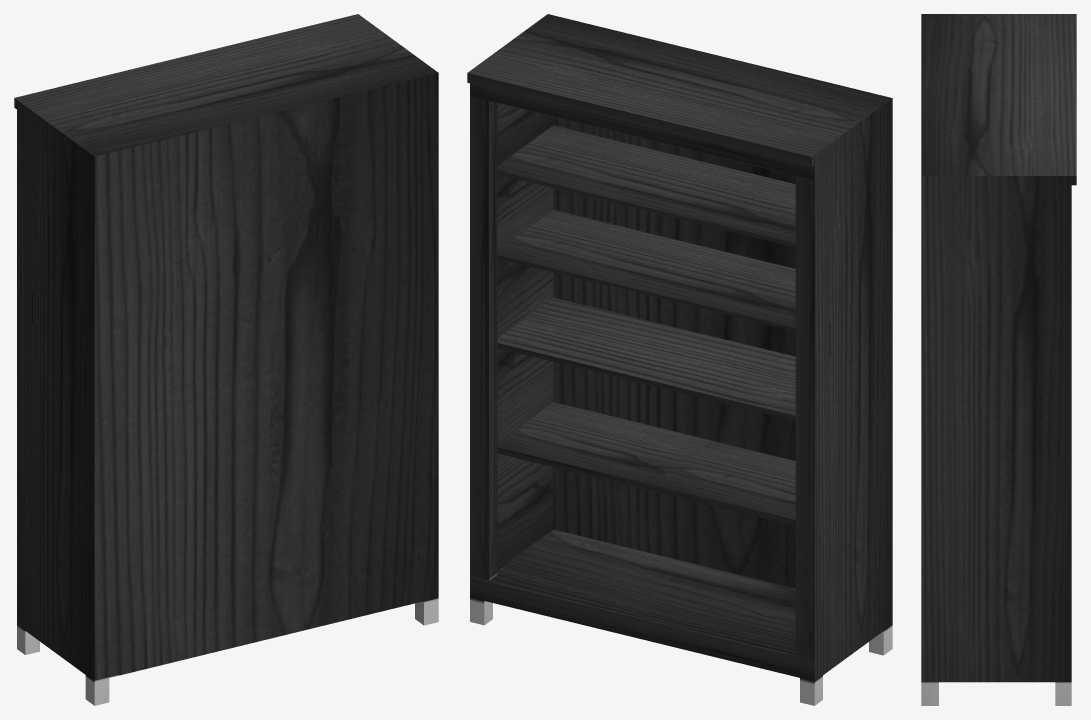
The model's file is bookshelf_black_library.FBX.
The picture shows the model from 3 angles, left to right: view 1: azimuth 30°, elevation 25°; view 2: azimuth 150°, elevation 25°; view 3: azimuth 270°, elevation 25°; orthographic projection. The views are drawn at different scales.
Parts seen in each view (by area): view 1: Box001; view 2: Box001; view 3: Box001.
Boxes of the visible parts, x1,y1,x2,y2 form: Box001: [14, 14, 438, 705]; Box001: [467, 14, 892, 705]; Box001: [921, 14, 1076, 705].
Size of the model in its own units: 106 by 161 by 42.79.
